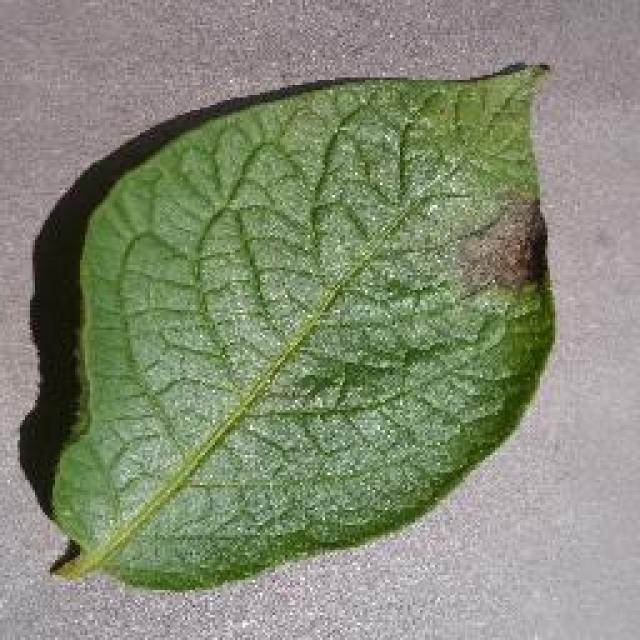late_blight: (35, 57, 560, 595)
